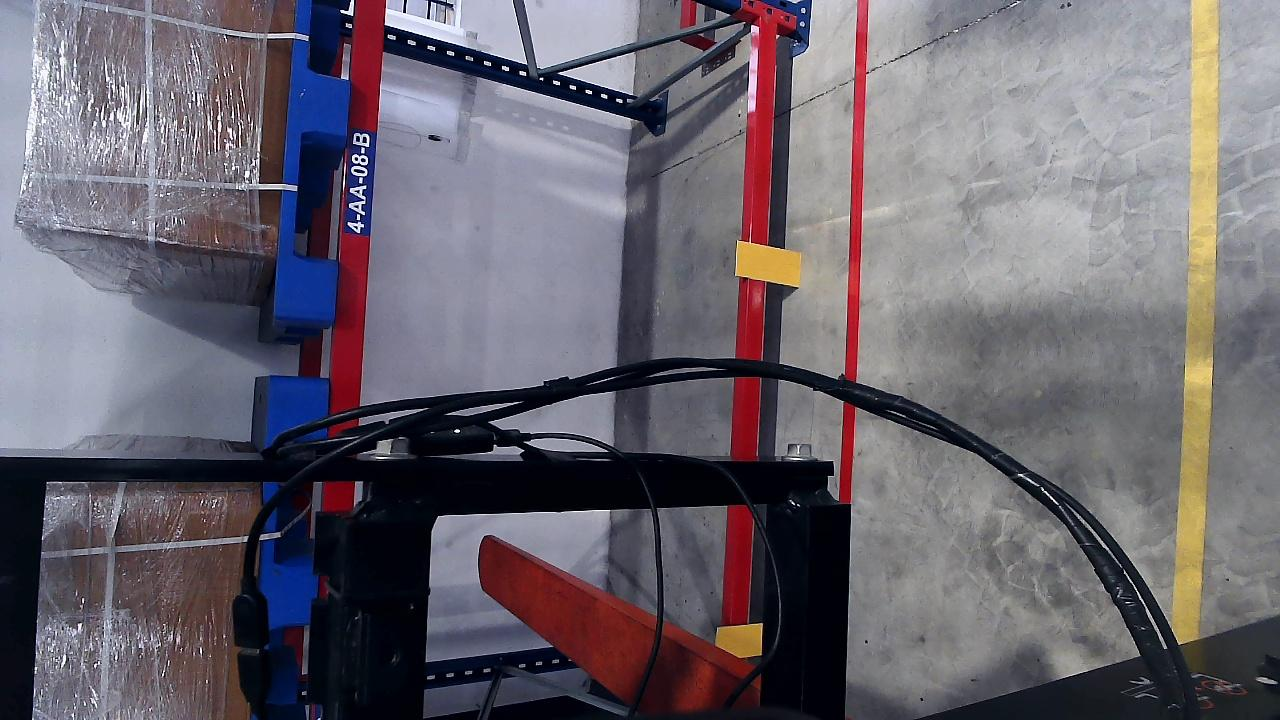h_rack: (718, 16, 766, 716), (327, 0, 390, 416)
orange_strip: (735, 240, 801, 285), (714, 622, 763, 657)
red_line: (843, 4, 868, 380)
small_pallet: (270, 0, 365, 319)
yellow_line: (1170, 55, 1220, 664)
